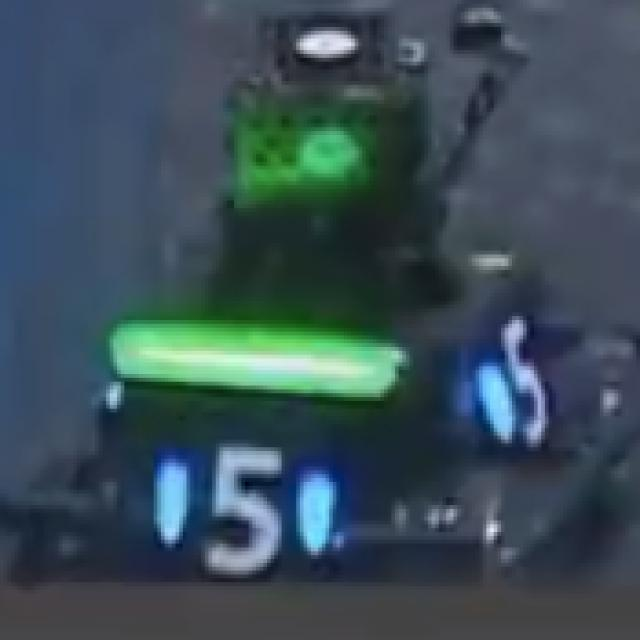B5: (142, 432, 332, 567), (472, 312, 552, 459)
